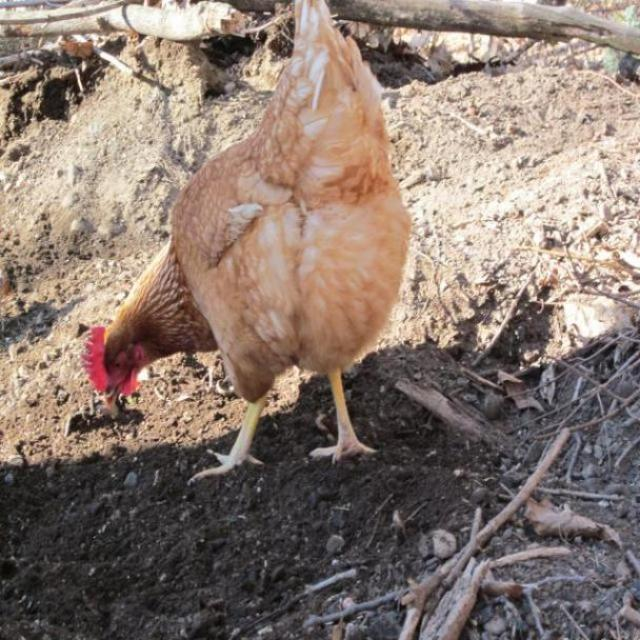Chicken: (78, 2, 399, 466)
